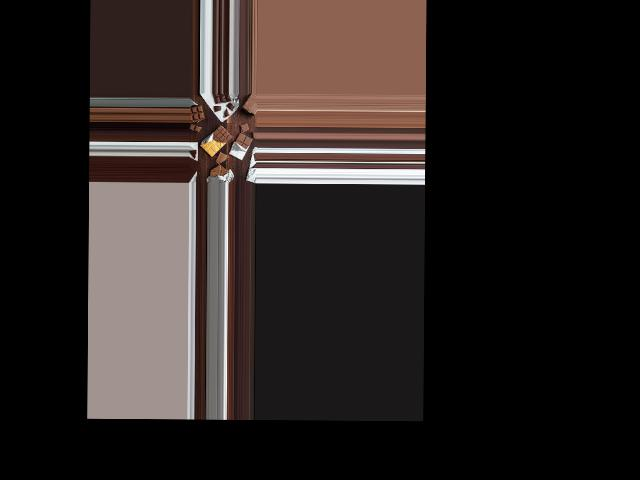chocolate: (228, 132, 255, 158)
